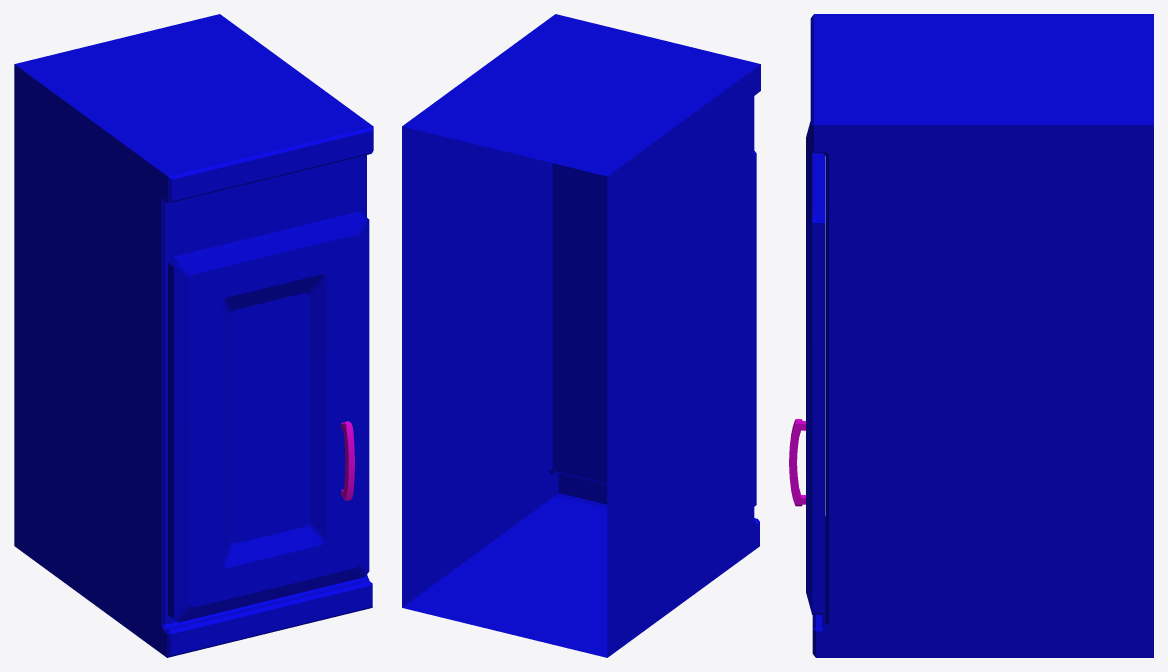
File: Kitchen_SlimWallCabinet.fbx
3 views of the same model, side by side, from view 1: azimuth 30°, elevation 25°; view 2: azimuth 150°, elevation 25°; view 3: azimuth 270°, elevation 25° (orthographic). The views are drawn at different scales.
Visible parts, largest first — view 1: SM_SlimCabinet; view 2: SM_SlimCabinet; view 3: SM_SlimCabinet.
Boxes of the visible parts, x1=… form: SM_SlimCabinet: x1=14, y1=14, x2=373, y2=657; SM_SlimCabinet: x1=402, y1=14, x2=760, y2=657; SM_SlimCabinet: x1=789, y1=14, x2=1153, y2=657.
Bounding box in the file's own units: 50 × 112 × 69.49.
